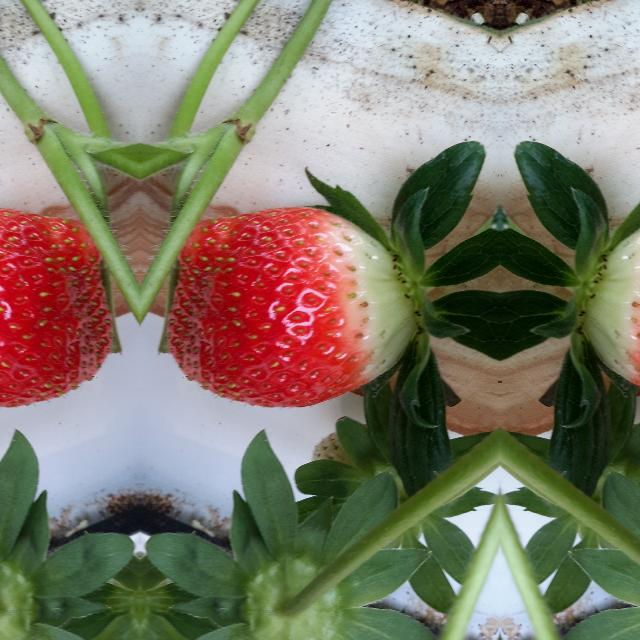Health_75: (168, 206, 418, 410), (0, 205, 112, 410), (581, 205, 640, 410)
